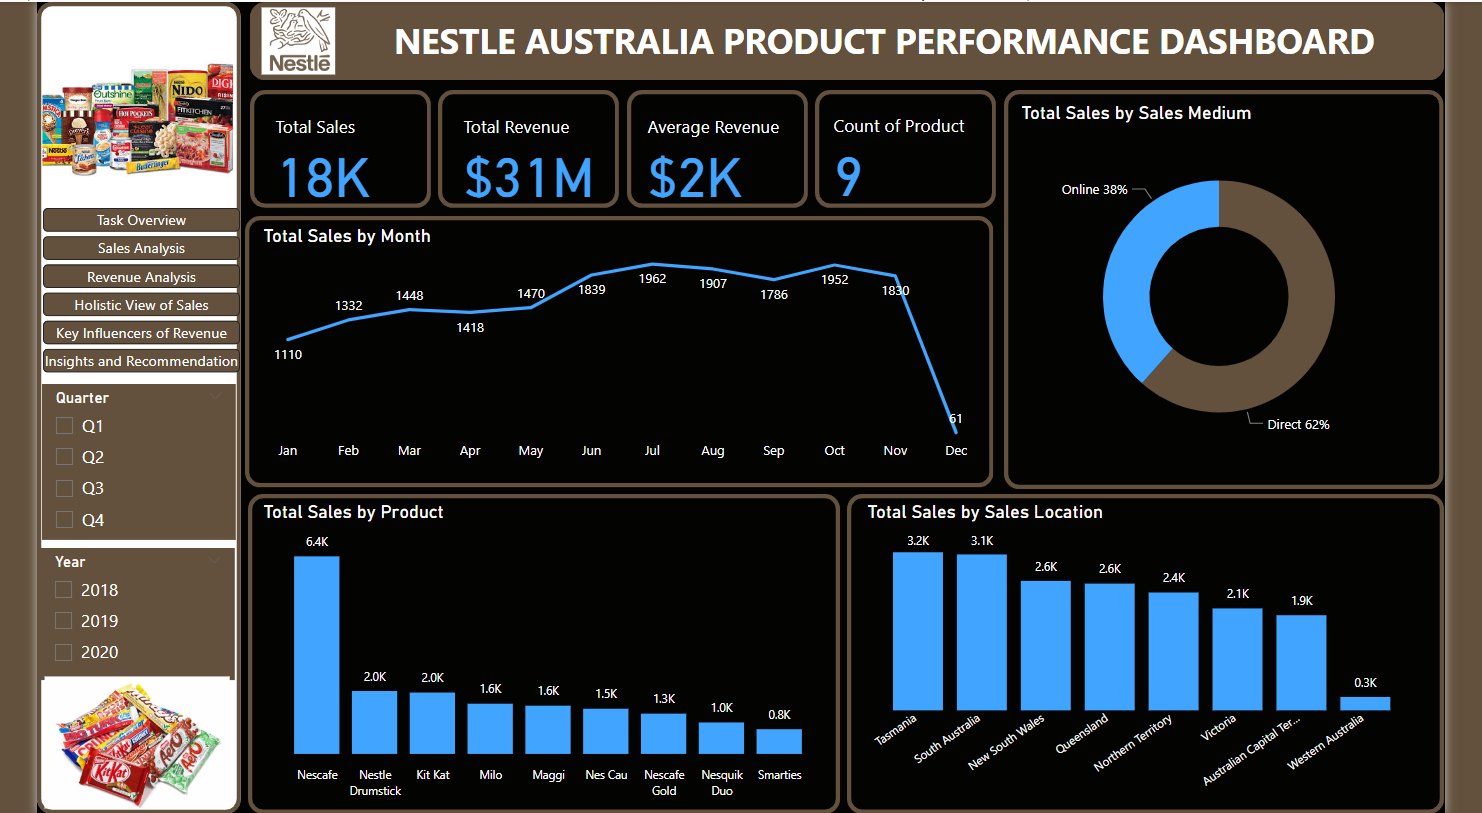

The page's visual inventory and layout, read from the dashboard file:
{"tool":"powerbi","page":{"name":"Sales Analysis","canvas":[1300,750],"ordinal":1},"visuals":[{"type":"shape","box":[0,0,188.4,750],"z":0},{"type":"shape","box":[196.6,0,1103,72.3],"z":1000},{"type":"image","box":[188.4,0,105.2,72.3],"z":2000},{"type":"image","box":[0,45.7,185.7,130.8],"z":3000},{"type":"cardVisual","fields":{"Data":["Calculations.Total Revenue"]},"box":[376.8,86.9,161,99.7],"z":4000},{"type":"cardVisual","fields":{"Data":["Calculations.Total Sales"]},"box":[203,86.9,152.7,103.4],"z":5000},{"type":"cardVisual","fields":{"Data":["Calculations.Average Revenue"]},"box":[547,86.9,165.5,99.7],"z":6000},{"type":"shape","box":[893.6,81.4,406.1,368.6],"z":7000},{"type":"shape","box":[192.1,197.6,691.5,250.6],"z":8000},{"type":"lineChart","fields":{"Y":["Calculations.Total Sales"],"Category":["Calendar Dim.Month Name"]},"box":[204,205.8,672.3,226.8],"z":9000},{"type":"shape","box":[194.8,454.6,547,295.4],"z":10000},{"type":"slicer","fields":{"Values":["Calendar Dim.Year"]},"box":[3.7,504,179.3,121.6],"z":11000},{"type":"slicer","fields":{"Values":["Calendar Dim.Quarter"]},"box":[4.6,353,179.3,143.6],"z":12000},{"type":"columnChart","fields":{"Category":["Nestle sales.Product Name"],"Y":["Calculations.Total Sales"]},"box":[204,461,529.6,282.6],"z":13000},{"type":"columnChart","fields":{"Category":["Nestle sales.Sales Location"],"Y":["Calculations.Total Sales"]},"box":[761.9,461,517.7,274.4],"z":14000},{"type":"shape","box":[748.2,454.6,551.5,295.4],"z":15000},{"type":"image","box":[0,618.3,185.7,131.7],"z":16000},{"type":"donutChart","fields":{"Category":["Nestle sales.Sales Medium"],"Y":["Calculations.Total Sales"]},"box":[904.6,92.4,375,340.2],"z":17000},{"type":"pageNavigator","box":[5.5,190.2,182.9,157.3],"z":18000},{"type":"textbox","box":[280.8,8.2,1003.4,64],"z":19000},{"type":"shape","box":[196.6,81.4,167.4,108.8],"z":20000},{"type":"shape","box":[370.7,81.4,167.4,108.8],"z":21000},{"type":"shape","box":[544.8,81.4,167.4,108.8],"z":22000},{"type":"shape","box":[718.9,81.4,167.4,108.8],"z":23000},{"type":"cardVisual","fields":{"Data":["Count(Nestle sales.Product Name)"]},"box":[718.9,86,160.1,99.7],"z":24000}]}

Visuals, with their boxes on the page's 1300x750 design canvas (x1, y1, x2, y2). These are canvas units, not pixel positions in the 1482x813 screenshot, which may show the page scaled, cropped or inside an application window:
shape: [0,0,188,750]
shape: [197,0,1300,72]
image: [188,0,294,72]
image: [0,46,186,176]
cardVisual - Calculations.Total Revenue: [377,87,538,187]
cardVisual - Calculations.Total Sales: [203,87,356,190]
cardVisual - Calculations.Average Revenue: [547,87,712,187]
shape: [894,81,1300,450]
shape: [192,198,884,448]
lineChart - Calculations.Total Sales x Calendar Dim.Month Name: [204,206,876,433]
shape: [195,455,742,750]
slicer - Calendar Dim.Year: [4,504,183,626]
slicer - Calendar Dim.Quarter: [5,353,184,497]
columnChart - Nestle sales.Product Name x Calculations.Total Sales: [204,461,734,744]
columnChart - Nestle sales.Sales Location x Calculations.Total Sales: [762,461,1280,735]
shape: [748,455,1300,750]
image: [0,618,186,750]
donutChart - Nestle sales.Sales Medium x Calculations.Total Sales: [905,92,1280,433]
pageNavigator: [6,190,188,348]
textbox: [281,8,1284,72]
shape: [197,81,364,190]
shape: [371,81,538,190]
shape: [545,81,712,190]
shape: [719,81,886,190]
cardVisual - Count(Nestle sales.Product Name): [719,86,879,186]
